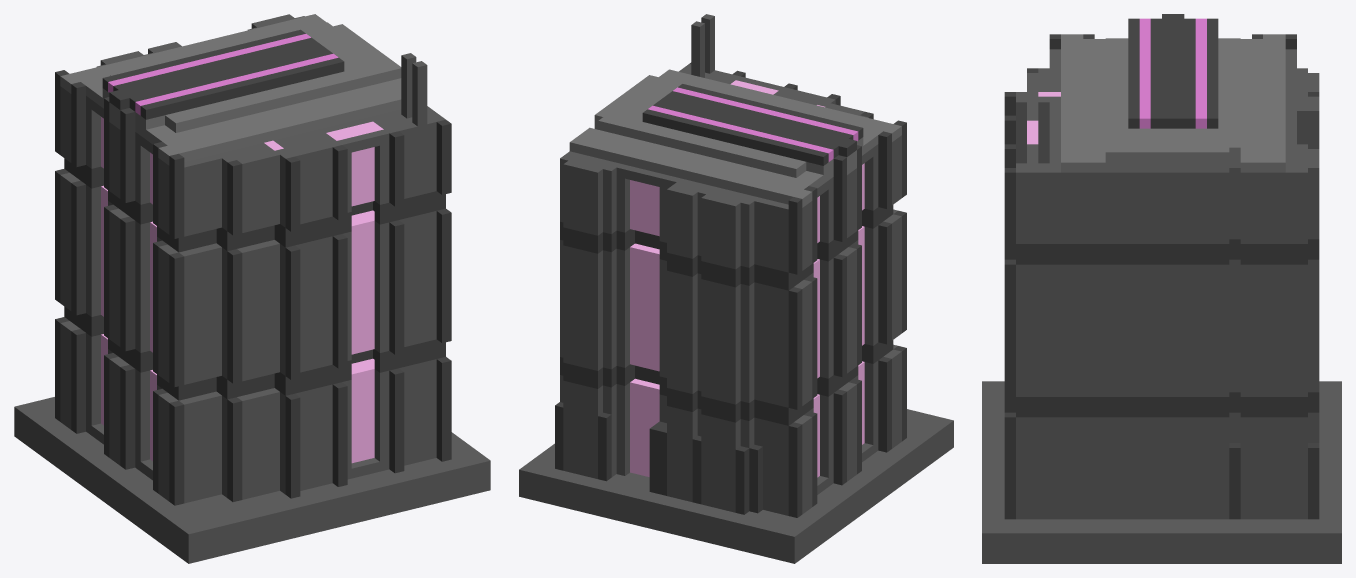
Rendered from _g_logistic.obj.
3 renders of one model, left to right at view 1: azimuth 30°, elevation 25°; view 2: azimuth 150°, elevation 25°; view 3: azimuth 270°, elevation 25°, orthographic. The views are drawn at different scales.
Bounding box in the file's own units: 3.2 × 4.3 × 3.2.
